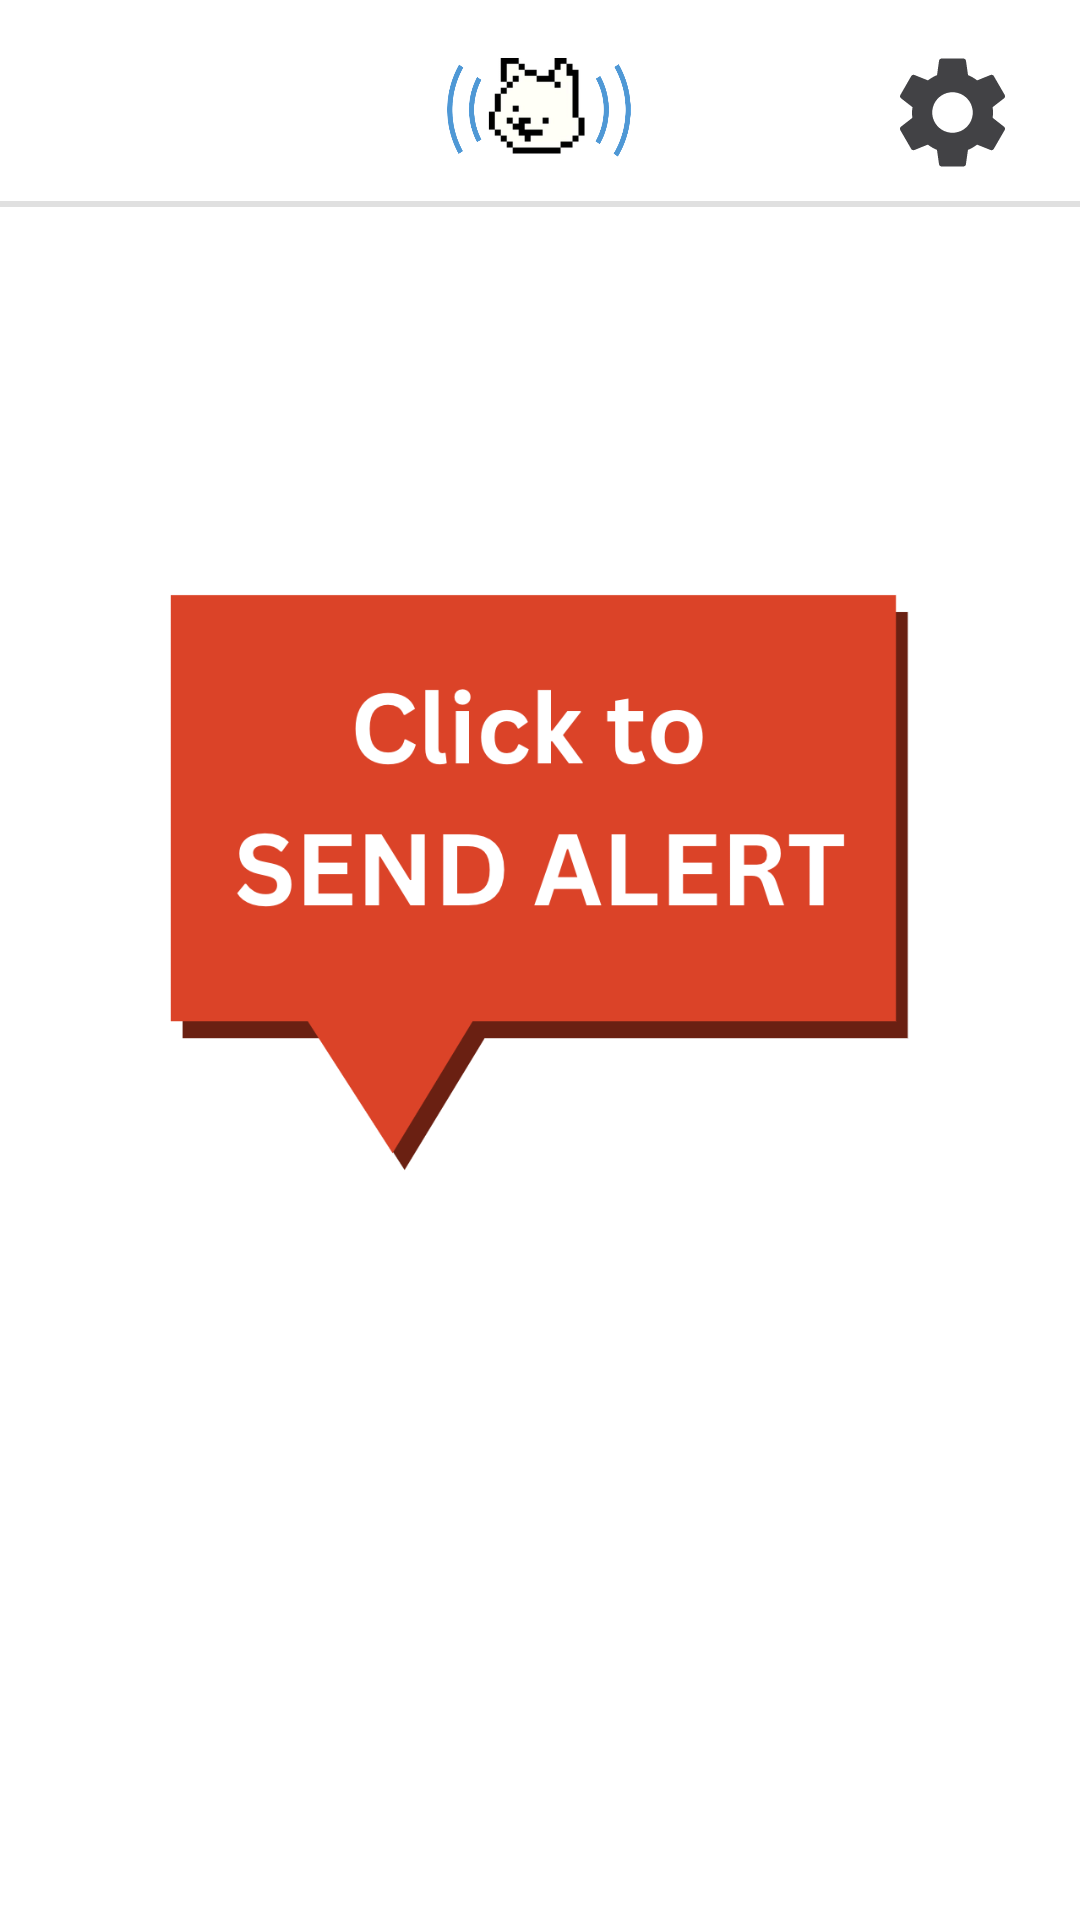

Icons on this 1080px×1920px Android screen, each with its box as (x1, y1, x2, y2):
settings: (900, 58, 1005, 167)
